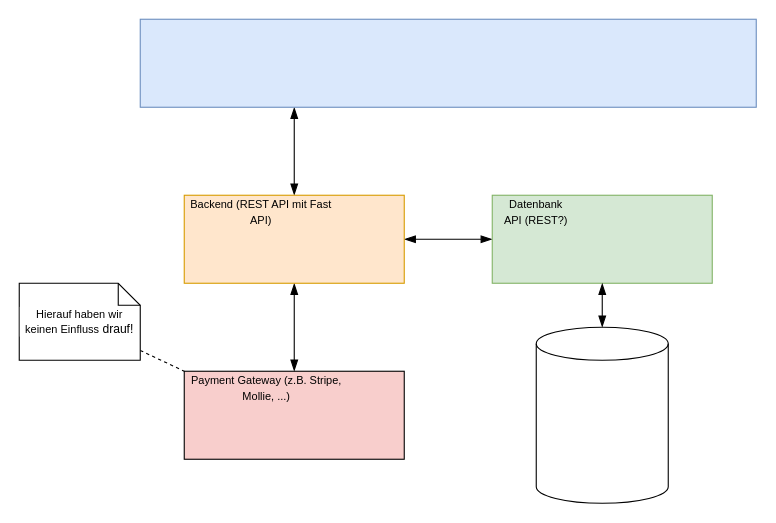
Image size: 776x523. Some labels were removed from this diagram. The centre of each missing label's shape, as x and y in pixels:
React Shop Frontend: (447,62)
Unsere Datenbank: (601,414)
